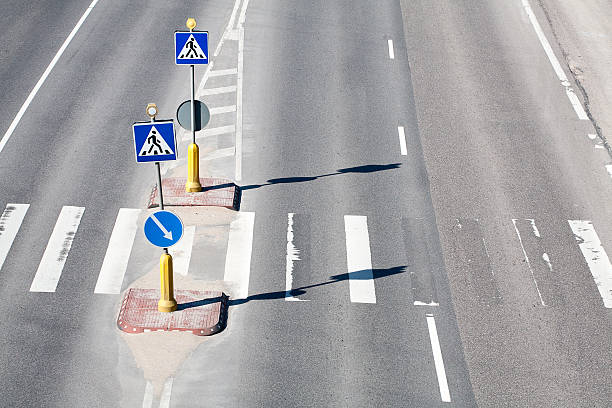yaya_gecidi_levha: (130, 124, 179, 165), (179, 35, 207, 68)
